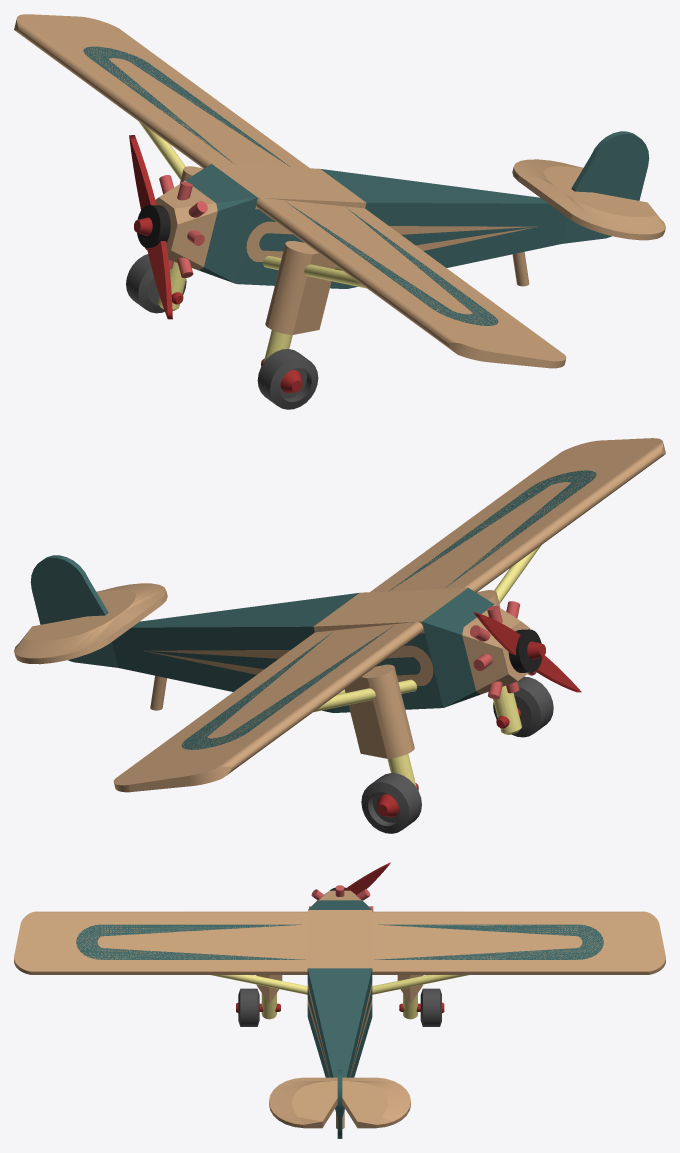
Rendered from airplane.dae.
The picture shows the model from 3 angles, top to bottom: view 1: azimuth 30°, elevation 25°; view 2: azimuth 150°, elevation 25°; view 3: azimuth 270°, elevation 25°; orthographic projection. The views are drawn at different scales.
Parts seen in each view (by area): view 1: wing (×3), body (×3), elevator, shock_absorbers, wheels (×2), propeller (×3), engine, group_1, group_4; view 2: wing (×3), body (×3), elevator, shock_absorbers, wheels (×2), engine, propeller (×3), group_4, wheel_post, group_1; view 3: wing (×3), body, elevator, wheels (×2), group_2, group_3, propeller.
Boxes of the visible parts, x1,y1,x2,y2 form: wing (×3): [14, 14, 566, 368]; body (×3): [185, 131, 649, 288]; elevator: [512, 159, 665, 240]; shock_absorbers: [265, 241, 335, 334]; wheels (×2): [126, 254, 318, 409]; propeller (×3): [129, 135, 172, 319]; engine: [155, 180, 217, 270]; group_1: [263, 256, 366, 288]; group_4: [139, 122, 185, 179]; wing (×3): [113, 438, 665, 792]; body (×3): [30, 555, 494, 712]; elevator: [14, 583, 167, 664]; shock_absorbers: [344, 664, 414, 758]; wheels (×2): [361, 676, 553, 833]; engine: [462, 604, 530, 694]; propeller (×3): [473, 612, 581, 692]; group_4: [313, 679, 417, 712]; wheel_post: [493, 685, 521, 734]; group_1: [494, 545, 541, 603]; wing (×3): [14, 910, 665, 974]; body: [307, 900, 372, 1138]; elevator: [269, 1077, 410, 1128]; wheels (×2): [238, 988, 441, 1026]; group_2: [211, 975, 307, 994]; group_3: [372, 975, 468, 994]; propeller: [345, 862, 390, 894].
Bounding box in the file's own units: 12 × 19 × 4.65.
